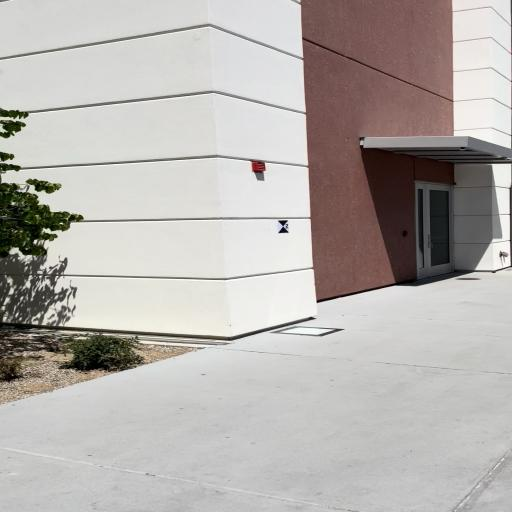target2: (277, 221, 290, 233)
